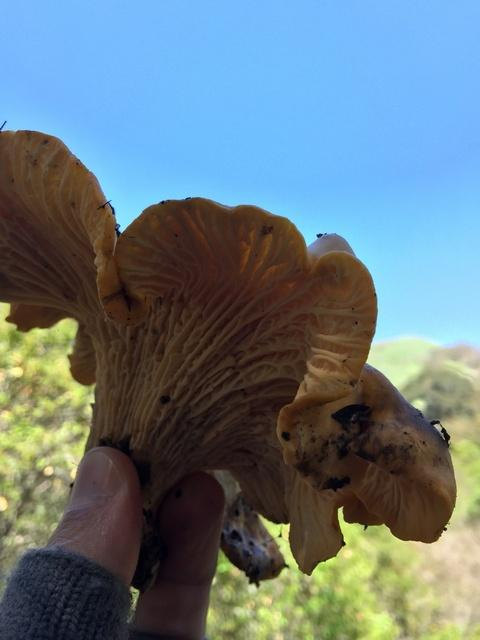Edible Mushroom: (0, 124, 458, 593)
